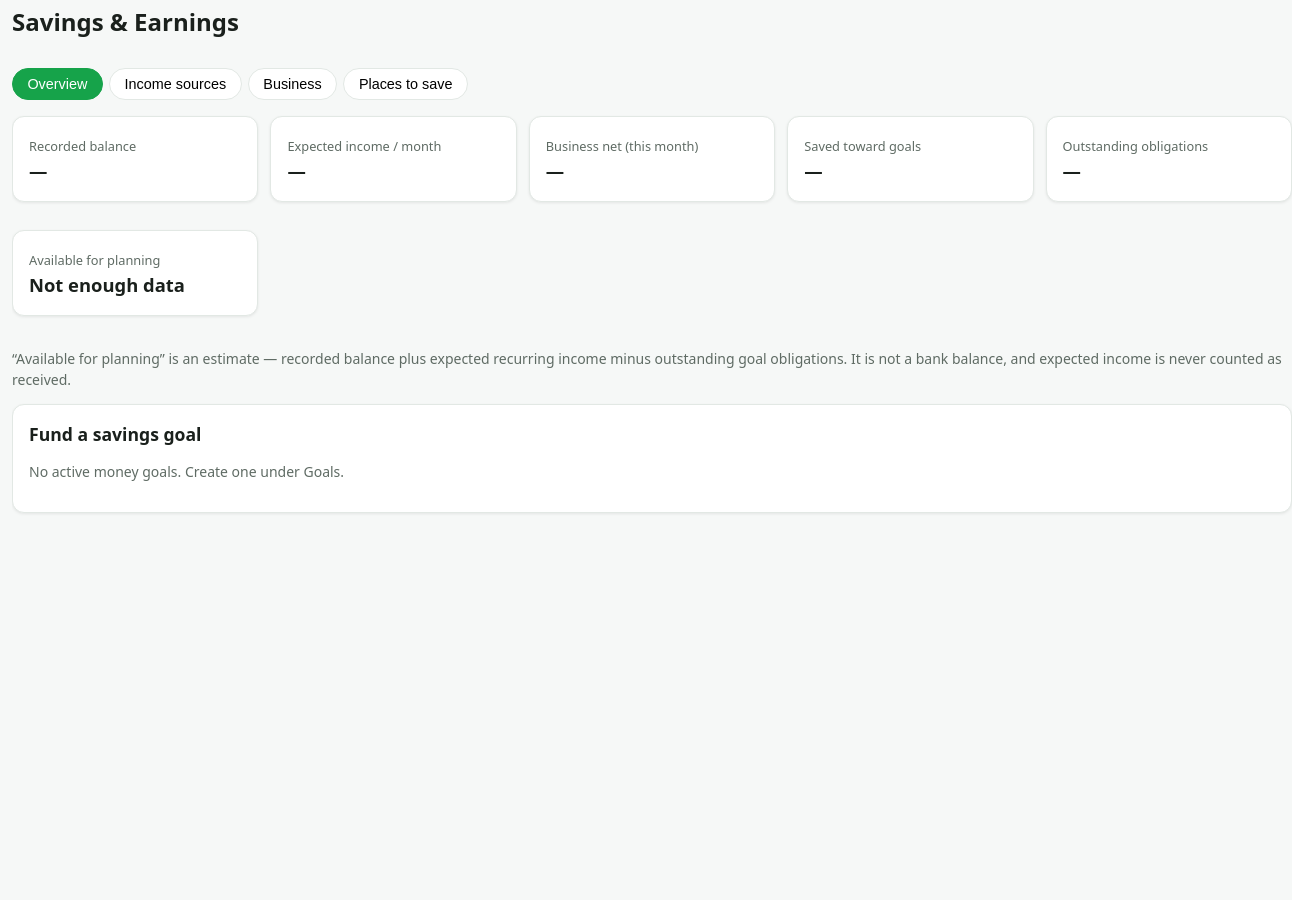
Test: EarningsPage › shows a rate only with the day it was checked
Click the tab "Places to save" at (406, 84), box [344,68,468,100]
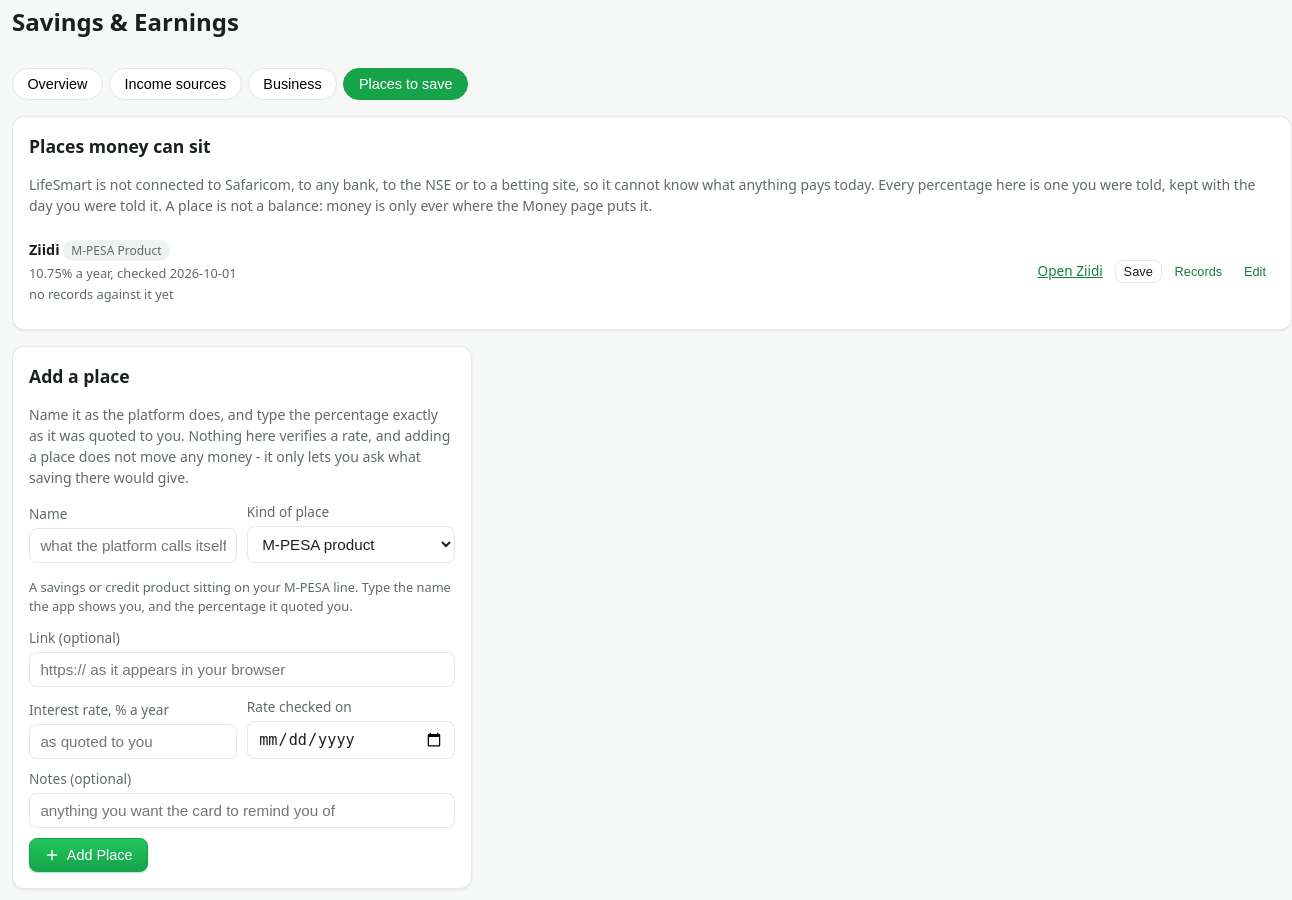
Now the text "Ziidi" is shown, box [29,240,60,259]
Now the text "10.75% a year, checked 2026-10-01" is shown, box [29,264,237,283]
Now the text "no records against it yet" is shown, box [29,285,174,303]
